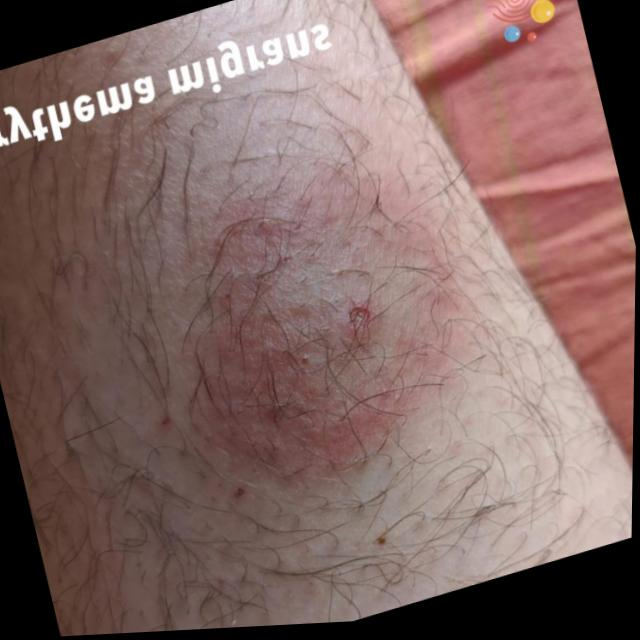Erythema migrans: (114, 68, 499, 536)
